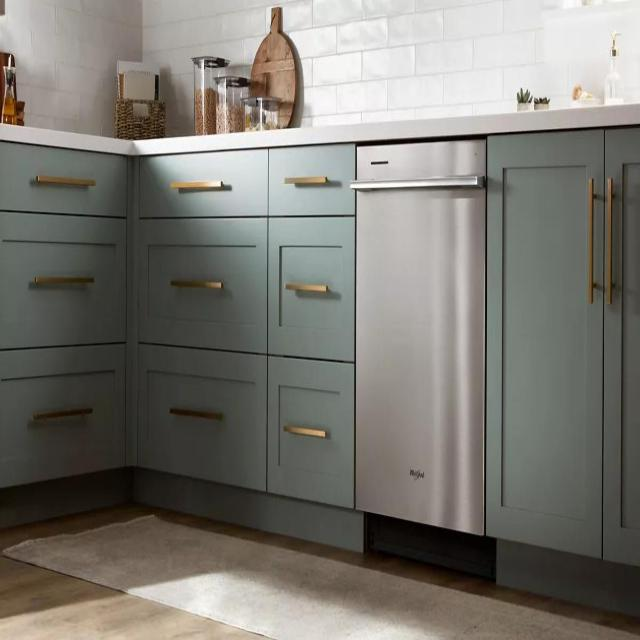dishwasher: (346, 109, 513, 589)
